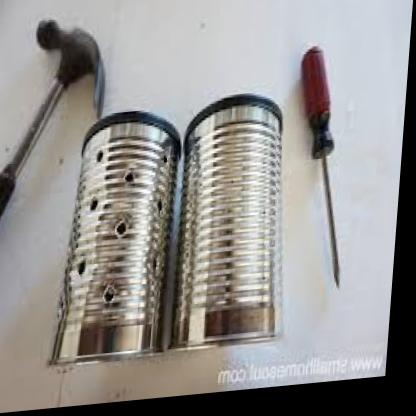Metal: (51, 75, 295, 372)
